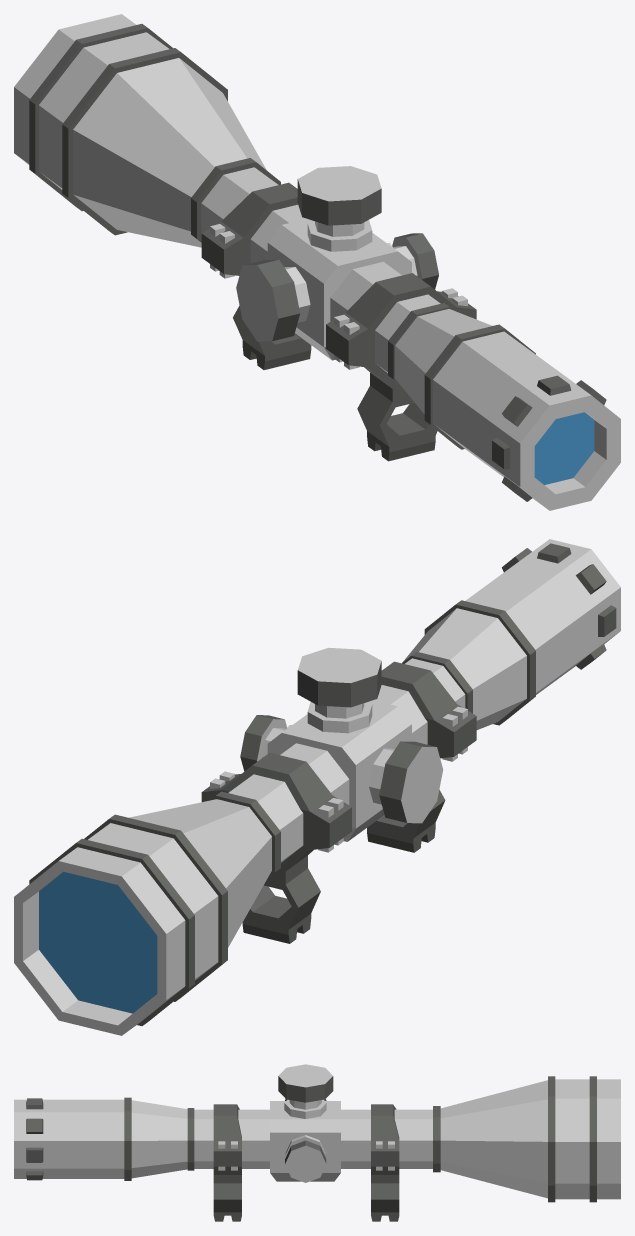
File: Scope 15x_White.fbx
3 renders of one model, top to bottom at view 1: azimuth 30°, elevation 25°; view 2: azimuth 150°, elevation 25°; view 3: azimuth 270°, elevation 25°, orthographic. The views are drawn at different scales.
Visible parts, largest first — view 1: Scope 15x_White; view 2: Scope 15x_White; view 3: Scope 15x_White.
Part boxes in pixels (left/top/right/bottom): Scope 15x_White: left=14, top=14, right=620, bottom=510; Scope 15x_White: left=14, top=539, right=620, bottom=1035; Scope 15x_White: left=14, top=1064, right=620, bottom=1221.
Bounding box in the file's own units: 58.01 × 73.48 × 292.
